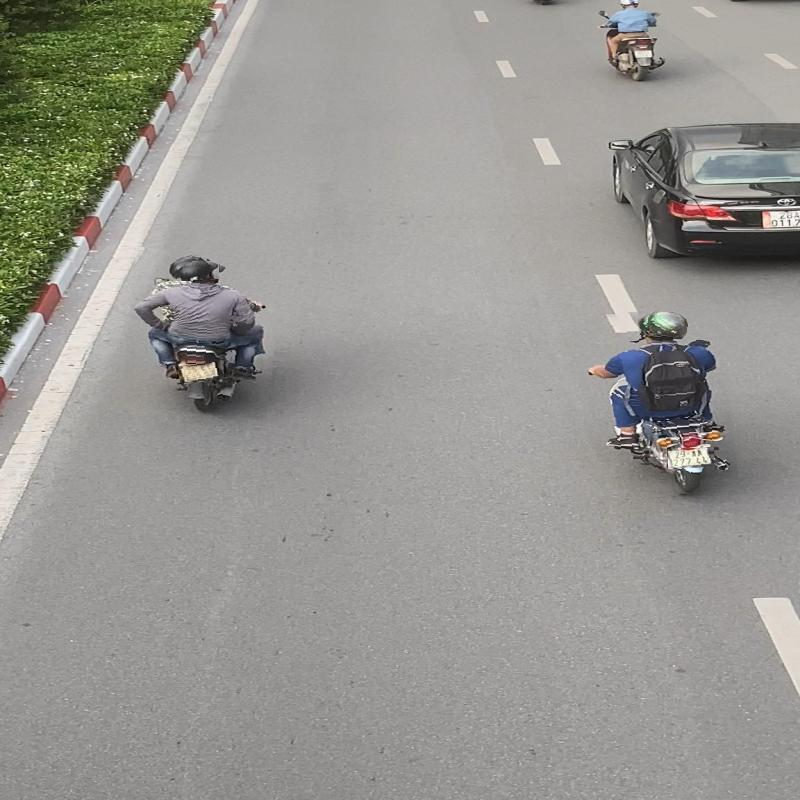helmet: (647, 310, 689, 340), (167, 256, 208, 280), (180, 261, 220, 281)
licenseplate: (667, 447, 714, 469), (179, 362, 224, 383)
motorcyclist: (582, 308, 736, 500), (124, 250, 280, 418)
